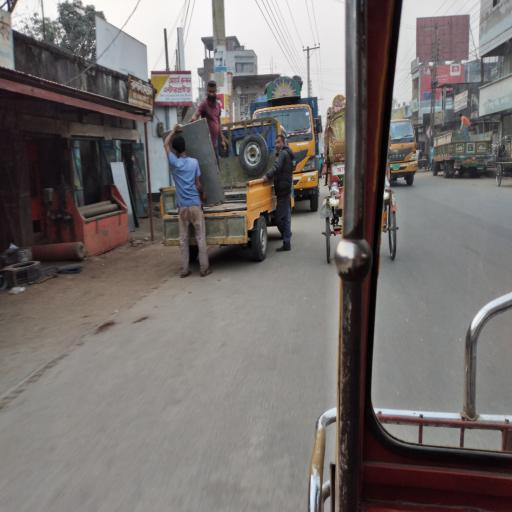pickup: (159, 121, 283, 264)
rickshaw: (324, 97, 405, 270)
truck: (246, 79, 321, 211), (430, 133, 493, 179), (387, 118, 418, 191)
